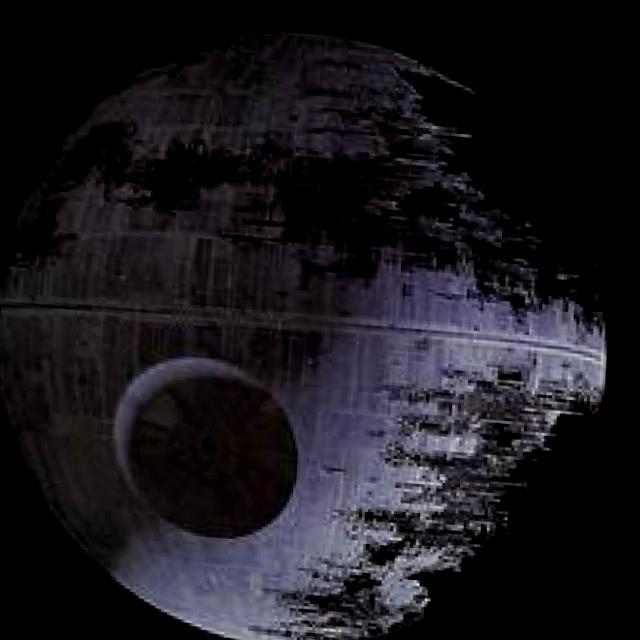deathStar: (0, 6, 620, 640)
